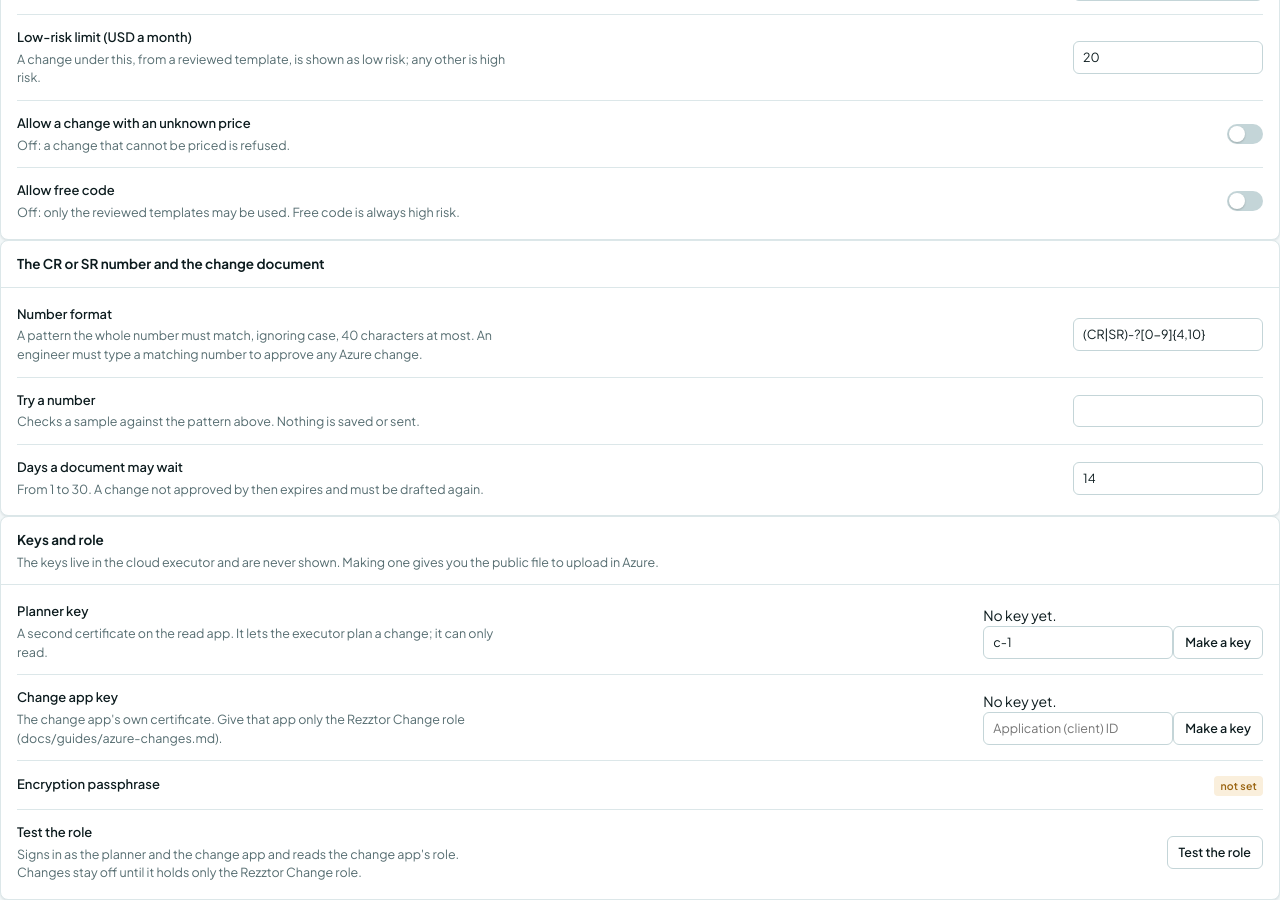
Test case: keys and the role test › says changes are off, with the reason, when the role is not right
(page scrolled)
Click the button "Test the role" at (1215, 852), box [1167,836,1263,869]
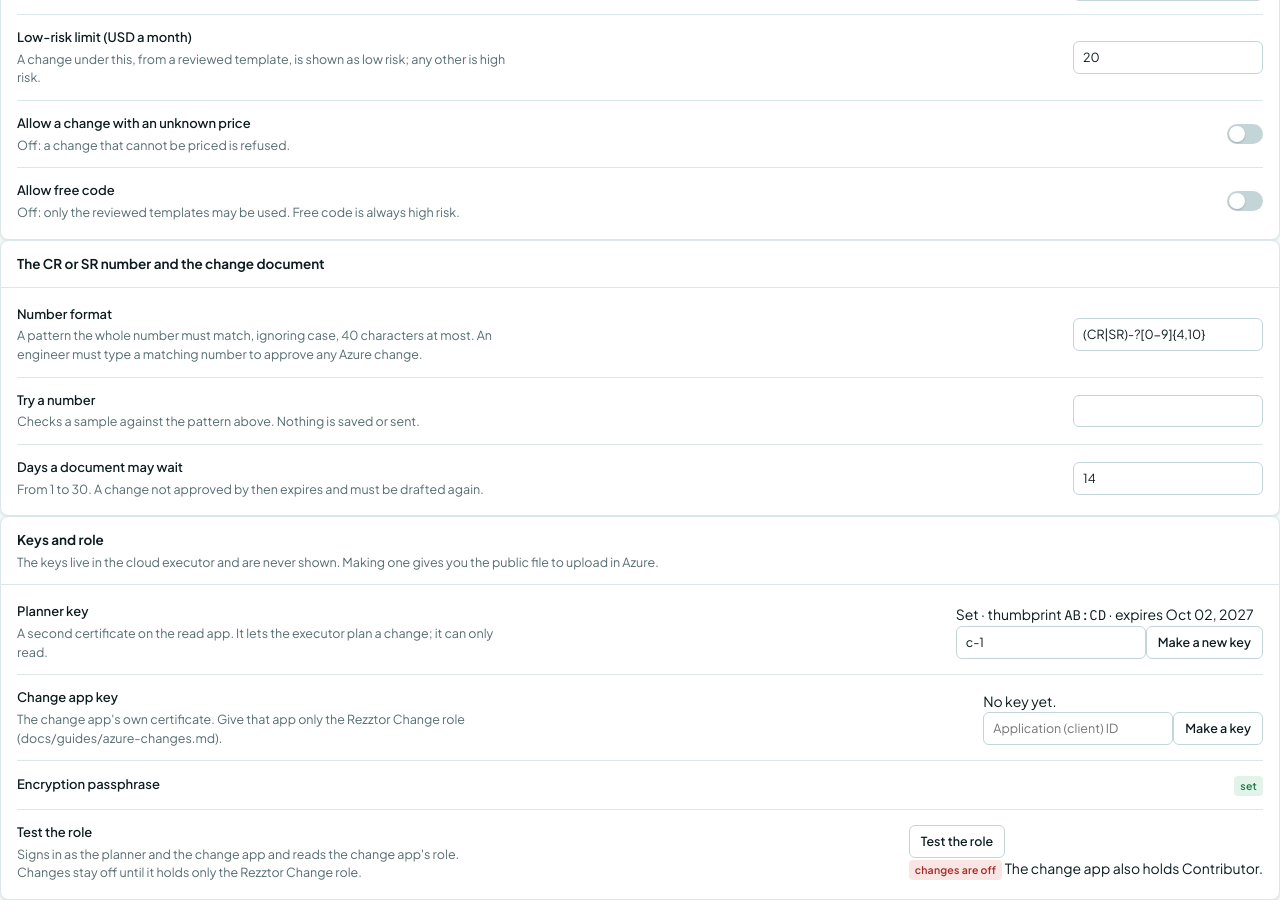
Result: the message with test id "role-result" shows "changes are off" at [915,863,996,876]
Result: the message with test id "role-result" shows "Contributor" at [1005,859,1263,877]
